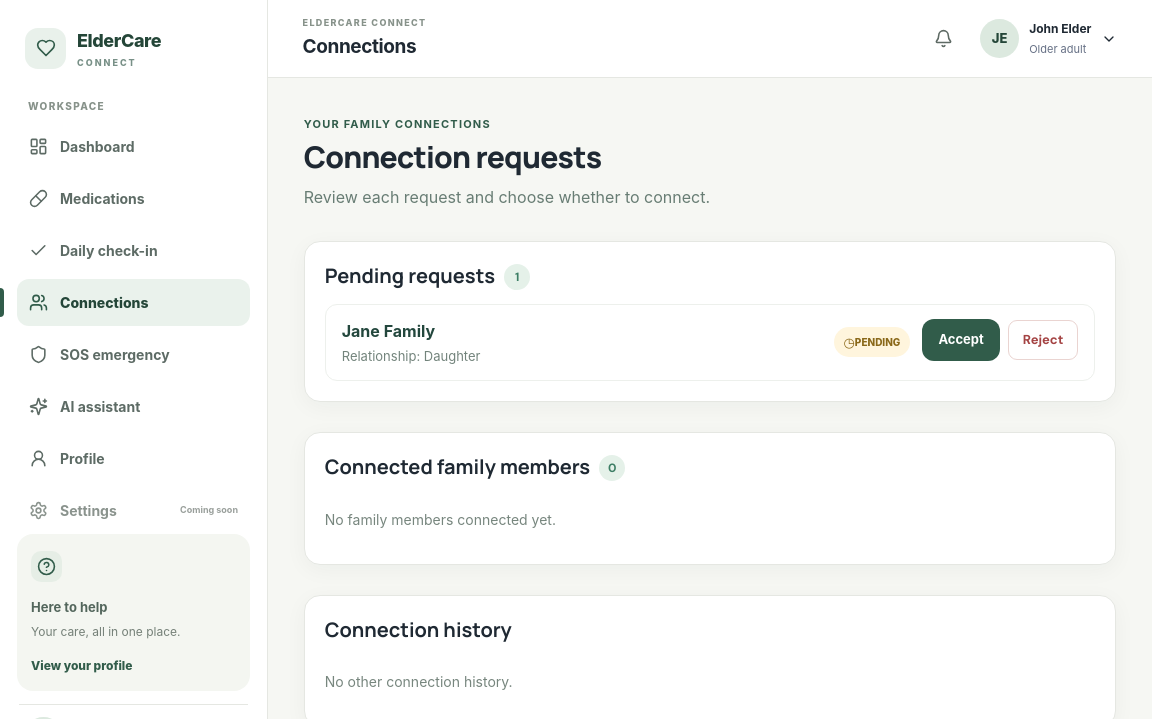
family and elder connection pages › lets an elder accept a pending request and shows the connected family member
Expected: the text "Jane Family" is shown, top-left (342, 321), bottom-right (435, 341)
Click the button "Accept".
click(961, 340)  # box top-left (922, 319), bottom-right (1000, 361)
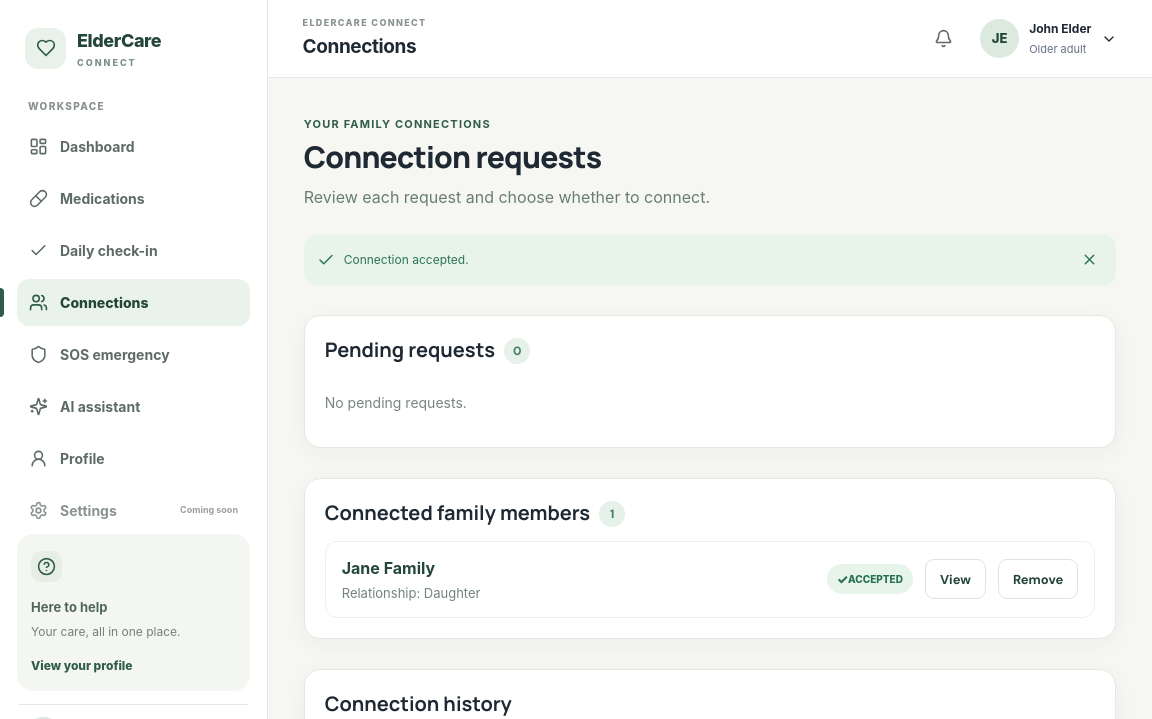
Expected: the heading "Connected family members 1" is shown, top-left (325, 499), bottom-right (625, 527)
Result: the message reads "Connection accepted." at top-left (344, 252), bottom-right (469, 267)
Result: the text "ACCEPTED" is shown at top-left (827, 564), bottom-right (913, 594)
